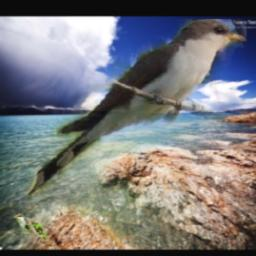Cuckoo: (25, 20, 247, 200), (11, 214, 51, 241)
